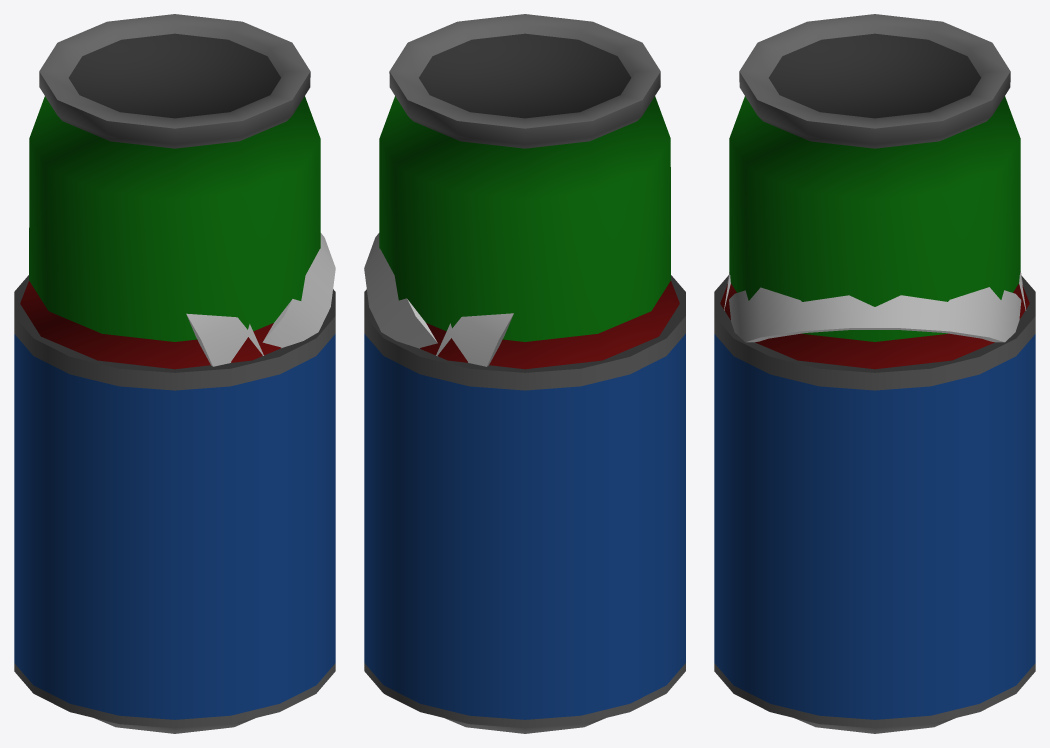
The model's file is Tins.FBX.
3 renders of one model, left to right at view 1: azimuth 30°, elevation 25°; view 2: azimuth 150°, elevation 25°; view 3: azimuth 270°, elevation 25°, orthographic.
Visible parts, largest first — view 1: Cylinder003, OilTank003, OilTank002, Cylinder005; view 2: Cylinder003, OilTank003, OilTank002, Cylinder005; view 3: Cylinder003, OilTank003, OilTank002.
Boxes of the visible parts, bbox=[...] form: Cylinder003: bbox=[14, 233, 335, 728]; OilTank003: bbox=[29, 14, 320, 341]; OilTank002: bbox=[20, 281, 281, 733]; Cylinder005: bbox=[186, 313, 263, 366]; Cylinder003: bbox=[364, 233, 685, 728]; OilTank003: bbox=[379, 14, 670, 341]; OilTank002: bbox=[420, 281, 679, 733]; Cylinder005: bbox=[436, 313, 513, 366]; Cylinder003: bbox=[714, 275, 1035, 728]; OilTank003: bbox=[729, 14, 1020, 341]; OilTank002: bbox=[720, 284, 1029, 733].
Size of the model in its own units: 20.72 by 20.41 by 42.9.
